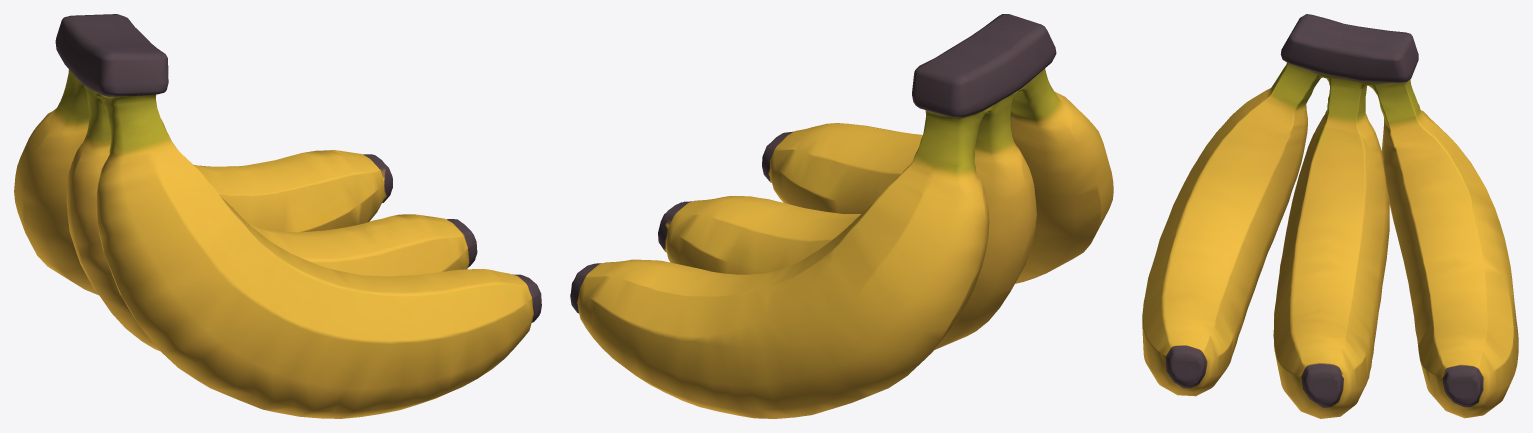
The model's file is bananas.glb.
The picture shows the model from 3 angles, left to right: view 1: azimuth 30°, elevation 25°; view 2: azimuth 150°, elevation 25°; view 3: azimuth 270°, elevation 25°; orthographic projection. The views are drawn at different scales.
Parts seen in each view (by area): view 1: Bananas; view 2: Bananas; view 3: Bananas.
Boxes of the visible parts, box(x1,y1,x2,y2) form: Bananas: box(14, 14, 541, 418); Bananas: box(570, 14, 1113, 418); Bananas: box(1142, 14, 1518, 418).
Bounding box in the file's own units: 0.998 × 0.877 × 0.998.
1 material, 1 textured.
